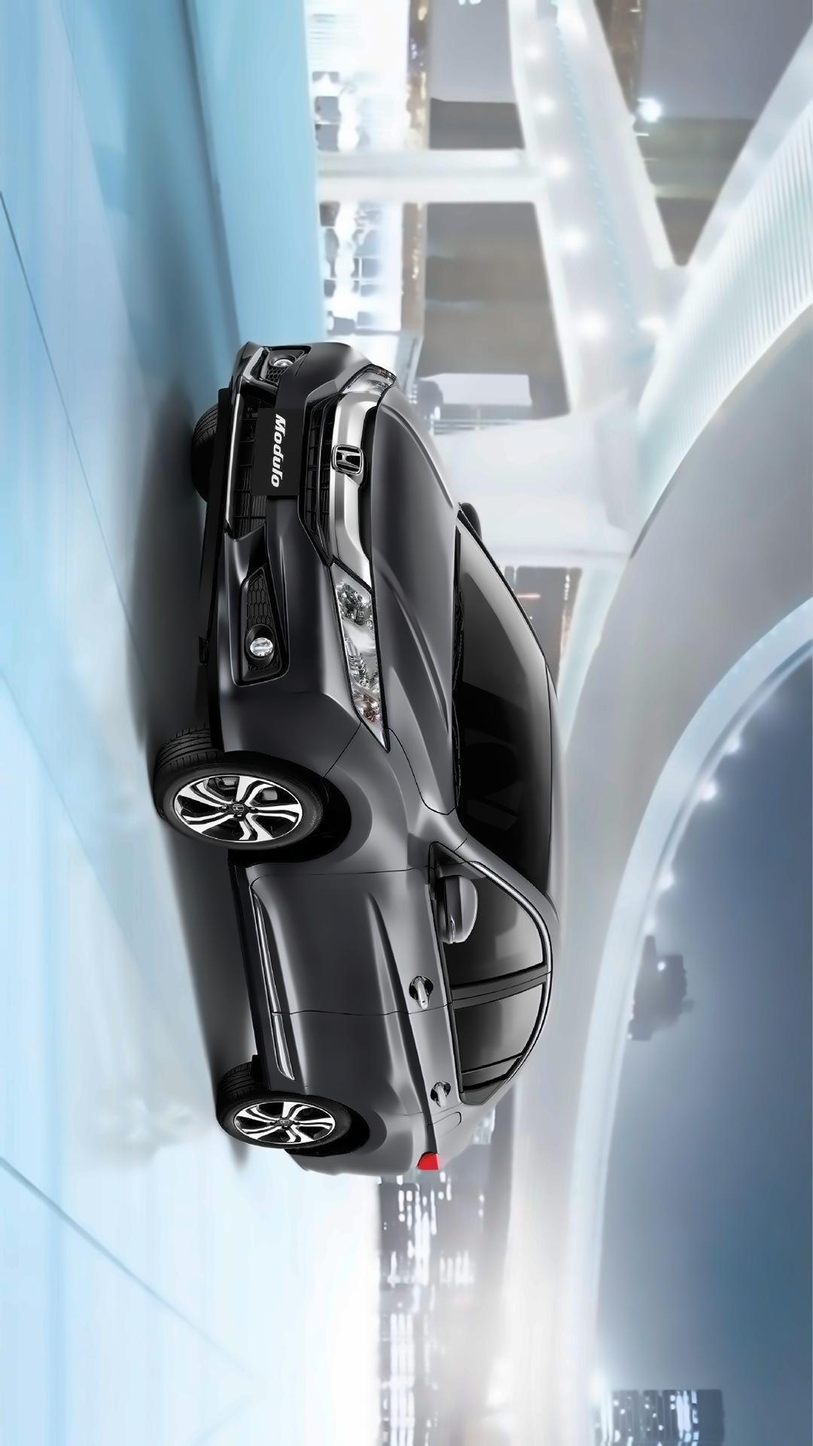Car hood: (367, 359, 464, 827)
Fender - -F-L-: (226, 751, 466, 876)
Front bumper: (204, 332, 368, 776)
Headlight - -L-: (334, 560, 395, 758)
Headlight - -R-: (329, 352, 400, 414)
Passenger-s door - -F-L-: (211, 844, 567, 1030)
Passenger-s door - -R-L-: (252, 974, 572, 1113)
Side bumper - -L-: (209, 859, 337, 1117)
Side mirror - -L-: (412, 859, 484, 952)
